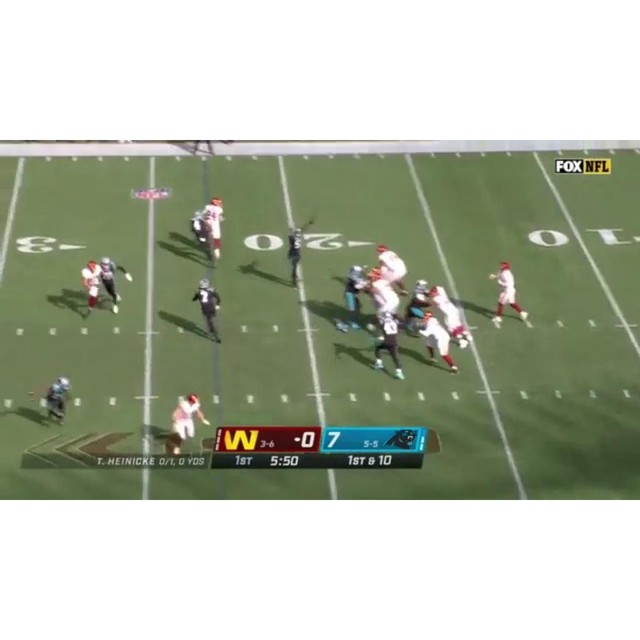american-football-player: (489, 261, 532, 329), (416, 310, 459, 375), (429, 284, 472, 348), (168, 394, 209, 455), (370, 310, 405, 379), (191, 278, 223, 343), (97, 255, 131, 312), (340, 264, 369, 326), (38, 376, 72, 428), (367, 268, 401, 319), (376, 244, 409, 294), (405, 279, 432, 333), (203, 198, 226, 260), (284, 227, 307, 288), (79, 260, 104, 316)
